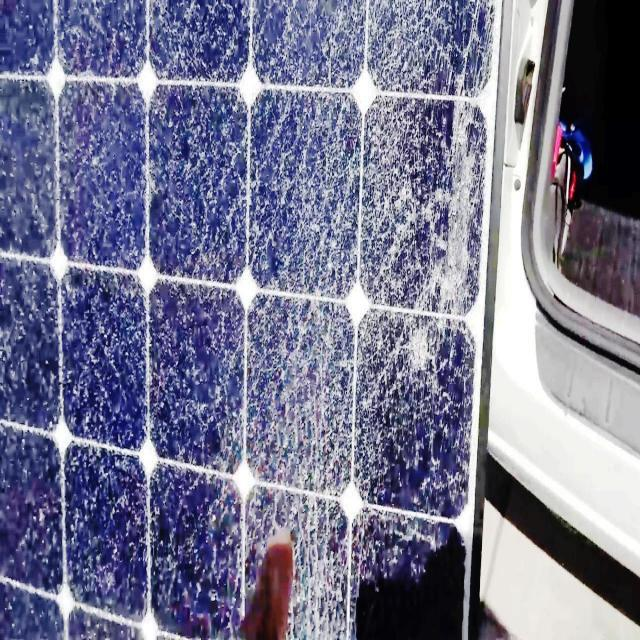faulty: (4, 4, 496, 637)
